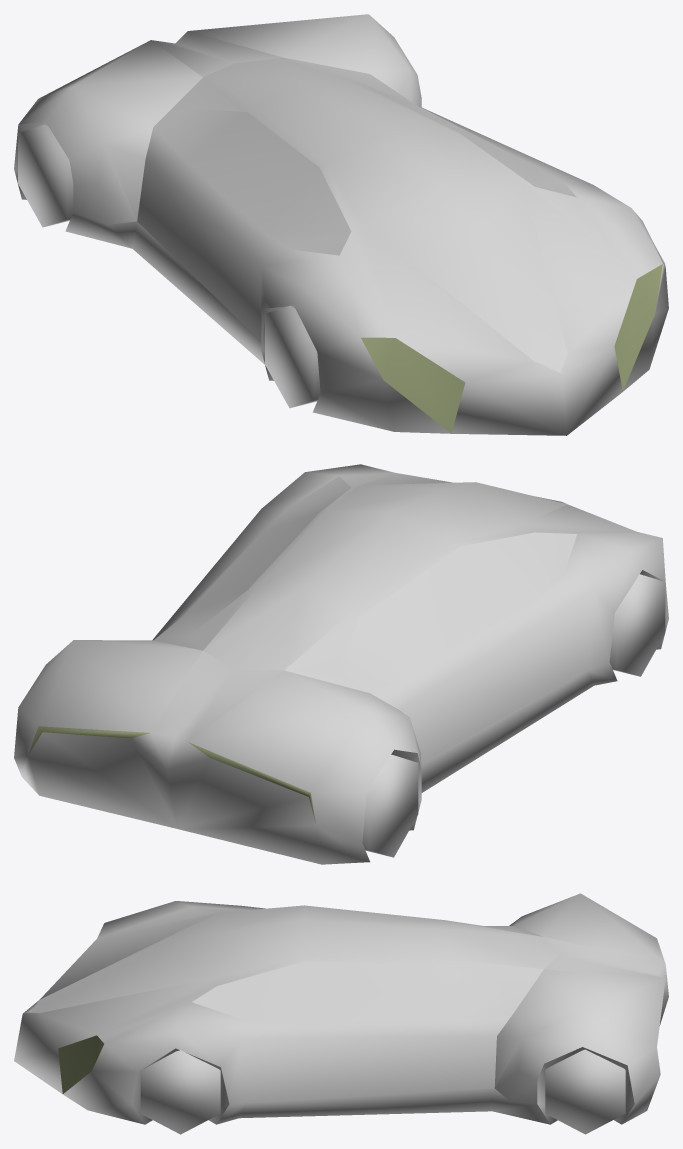
The model's file is Car Low.fbx.
3 views of the same model, one above another, from view 1: azimuth 30°, elevation 25°; view 2: azimuth 150°, elevation 25°; view 3: azimuth 270°, elevation 25° (orthographic). The views are drawn at different scales.
Parts seen in each view (by area): view 1: body4_L2, wheel_BR_L2, wheel_FR_L2; view 2: body4_L2, wheel_BR_L2, wheel_FR_L2; view 3: body4_L2, wheel_BL_L2, wheel_FL_L2.
Part boxes in pixels (<box>): body4_L2: <box>14,14,668,435</box>; wheel_BR_L2: <box>18,124,73,227</box>; wheel_FR_L2: <box>265,305,320,408</box>; body4_L2: <box>14,464,668,864</box>; wheel_BR_L2: <box>362,754,418,857</box>; wheel_FR_L2: <box>609,574,665,676</box>; body4_L2: <box>14,893,668,1124</box>; wheel_BL_L2: <box>545,1049,625,1134</box>; wheel_FL_L2: <box>140,1050,220,1134</box>.
Size of the model in its own units: 2.28 by 1.1 by 4.5.
